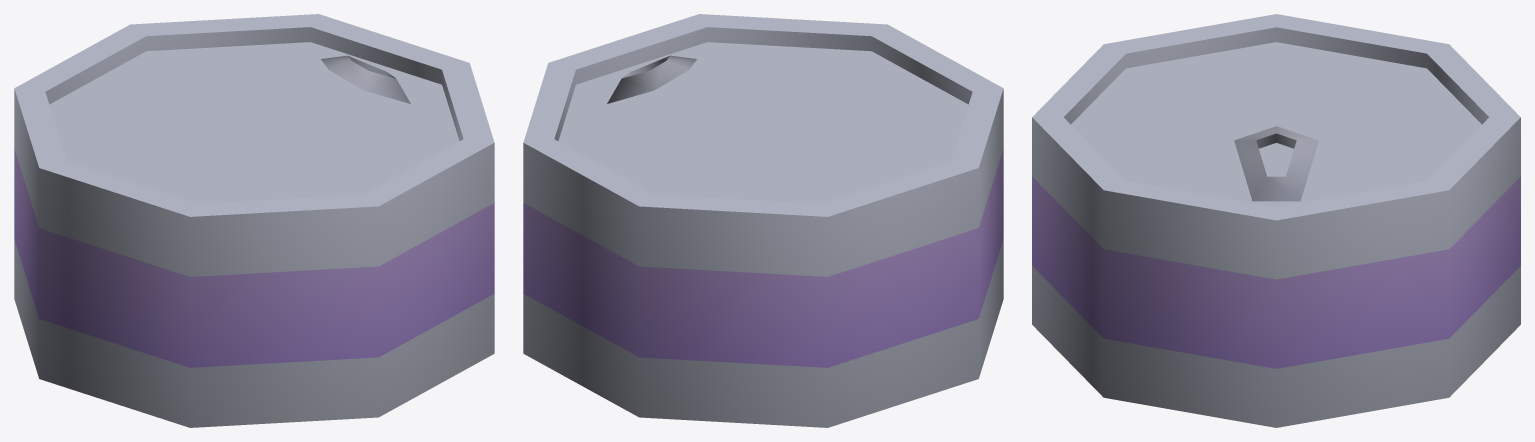
Rendered from can-small.glb.
The picture shows the model from 3 angles, left to right: view 1: azimuth 30°, elevation 25°; view 2: azimuth 150°, elevation 25°; view 3: azimuth 270°, elevation 25°; orthographic projection.
Visible parts, largest first — view 1: can-small; view 2: can-small; view 3: can-small.
Part boxes in pixels (x1,y1,x2,y2): can-small: (14,14,494,427); can-small: (523,14,1003,427); can-small: (1032,14,1520,427).
Bounding box in the file's own units: 0.3 × 0.1611 × 0.3.
